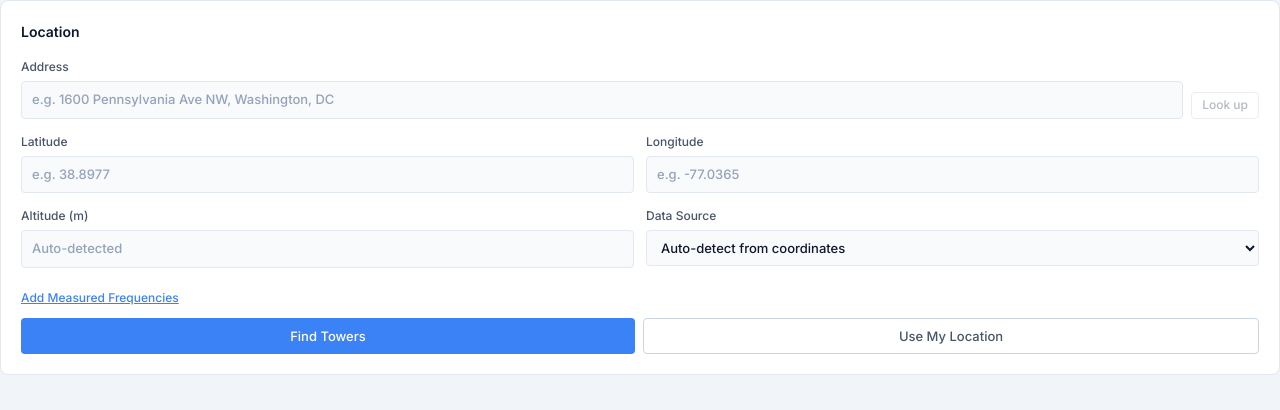
SearchForm address lookup › drops the confirmation as soon as the address is edited
The image size is (1280, 410).
Step 1. Type "1600 Pennsylvania Ave NW, Washington, DC" into the field labelled "Address" → (602, 100), box [21, 81, 1183, 118]
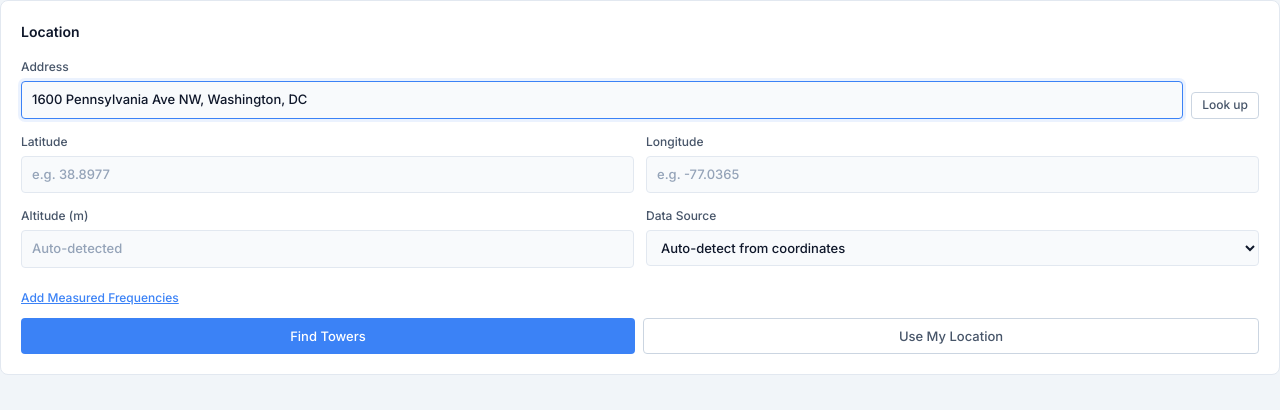
Step 2. Click the button "Look up" → (1225, 105), box [1191, 92, 1259, 118]
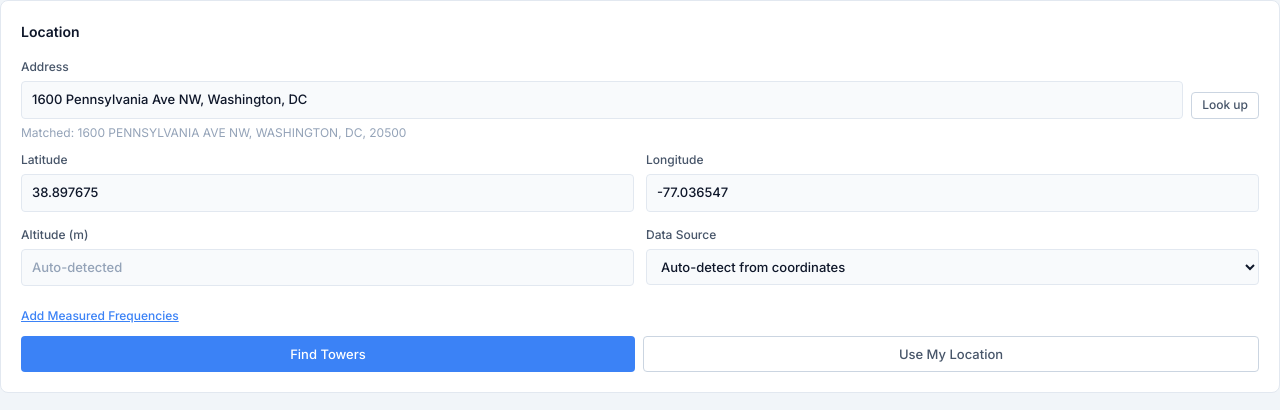
Now the text "Matched: 1600 PENNSYLVANIA AVE NW, WASHINGTON, DC, 20500" is shown, box [21, 124, 406, 140]
Step 3. Type " suite 2" into the field labelled "Address" → (602, 100), box [21, 81, 1183, 118]
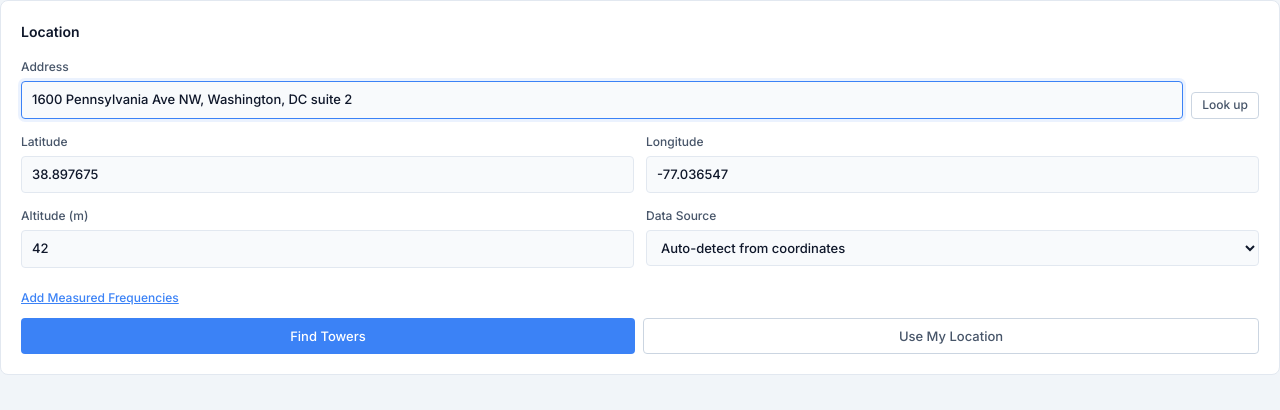
Now the number field labelled "Latitude" holds "38.897675", box [21, 156, 634, 193]
Now the text "Matched:" is gone
